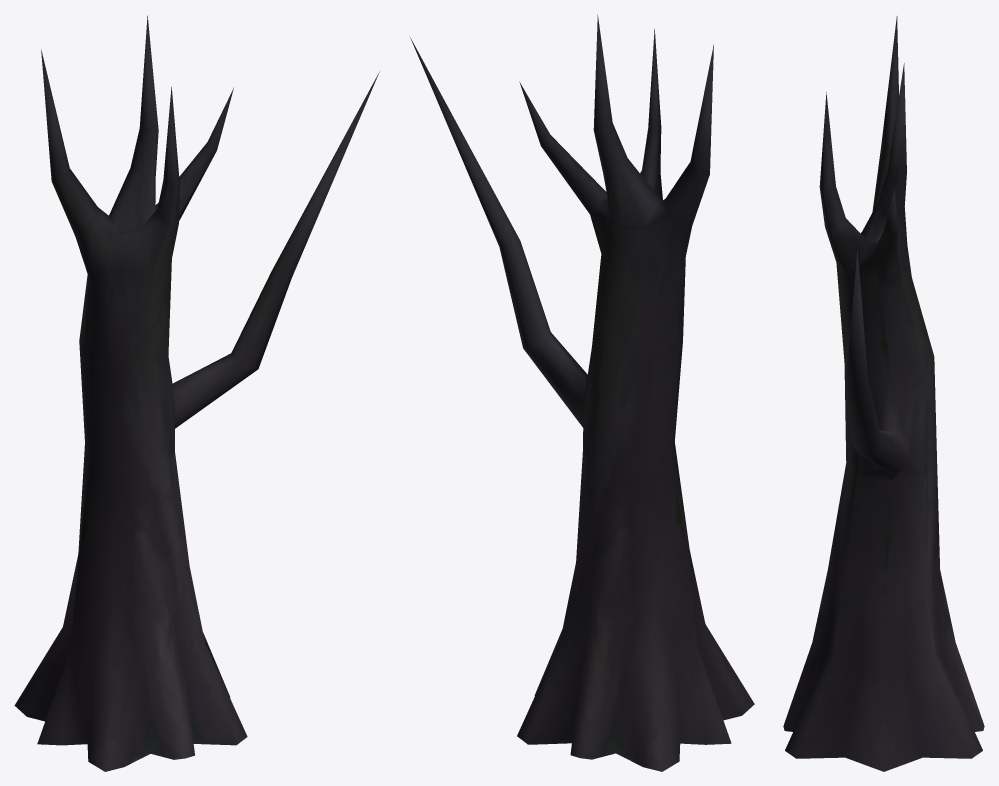
Rendered from Area13_11.fbx.
The picture shows the model from 3 angles, left to right: view 1: azimuth 30°, elevation 25°; view 2: azimuth 150°, elevation 25°; view 3: azimuth 270°, elevation 25°; orthographic projection. The views are drawn at different scales.
Visible parts, largest first — view 1: Area13_11; view 2: Area13_11; view 3: Area13_11.
Part boxes in pixels (bbox=[...]): Area13_11: bbox=[14, 15, 379, 771]; Area13_11: bbox=[410, 14, 754, 771]; Area13_11: bbox=[783, 16, 984, 771].
Size of the model in its own units: 783 by 1574 by 425.
